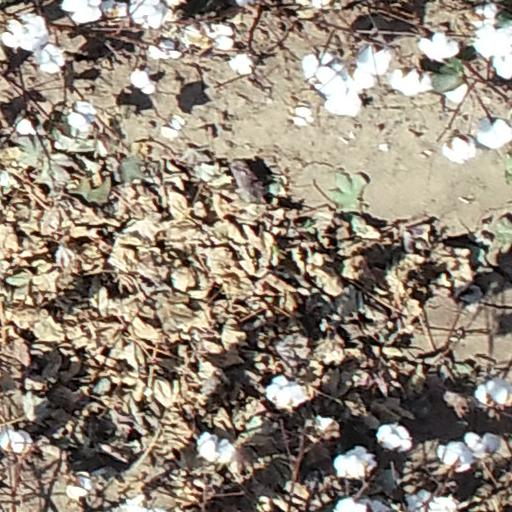Boll: (335, 446, 373, 478), (268, 377, 306, 406), (418, 30, 457, 58), (475, 27, 512, 56), (393, 68, 431, 96), (307, 55, 338, 88), (477, 378, 508, 408), (479, 118, 511, 147), (358, 47, 391, 75), (318, 67, 351, 95), (465, 431, 500, 456), (446, 133, 475, 163), (201, 434, 232, 462), (437, 440, 469, 467), (329, 90, 361, 117), (62, 1, 101, 23), (132, 4, 166, 29), (377, 425, 410, 450), (69, 102, 97, 131), (19, 18, 47, 46), (36, 45, 64, 71), (209, 24, 235, 50), (4, 15, 27, 44), (2, 430, 29, 453), (66, 471, 90, 496), (130, 70, 156, 93), (150, 40, 178, 60), (338, 497, 372, 512), (315, 417, 338, 438), (232, 55, 254, 75), (492, 56, 512, 74)
